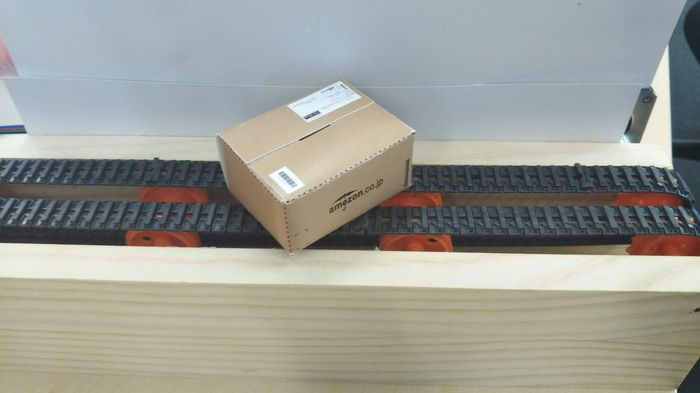box1: (215, 77, 416, 257)
